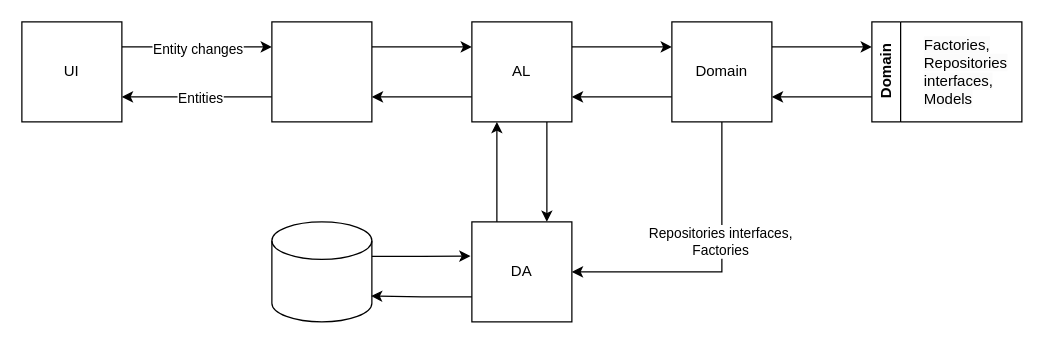
This 1044x344 diagram has some shape labels left out. Here are the shapes that lost their labels. From the top down, the centre of each, then its label:
At (321,71): "CRUD API".
At (321,271): "Database".
